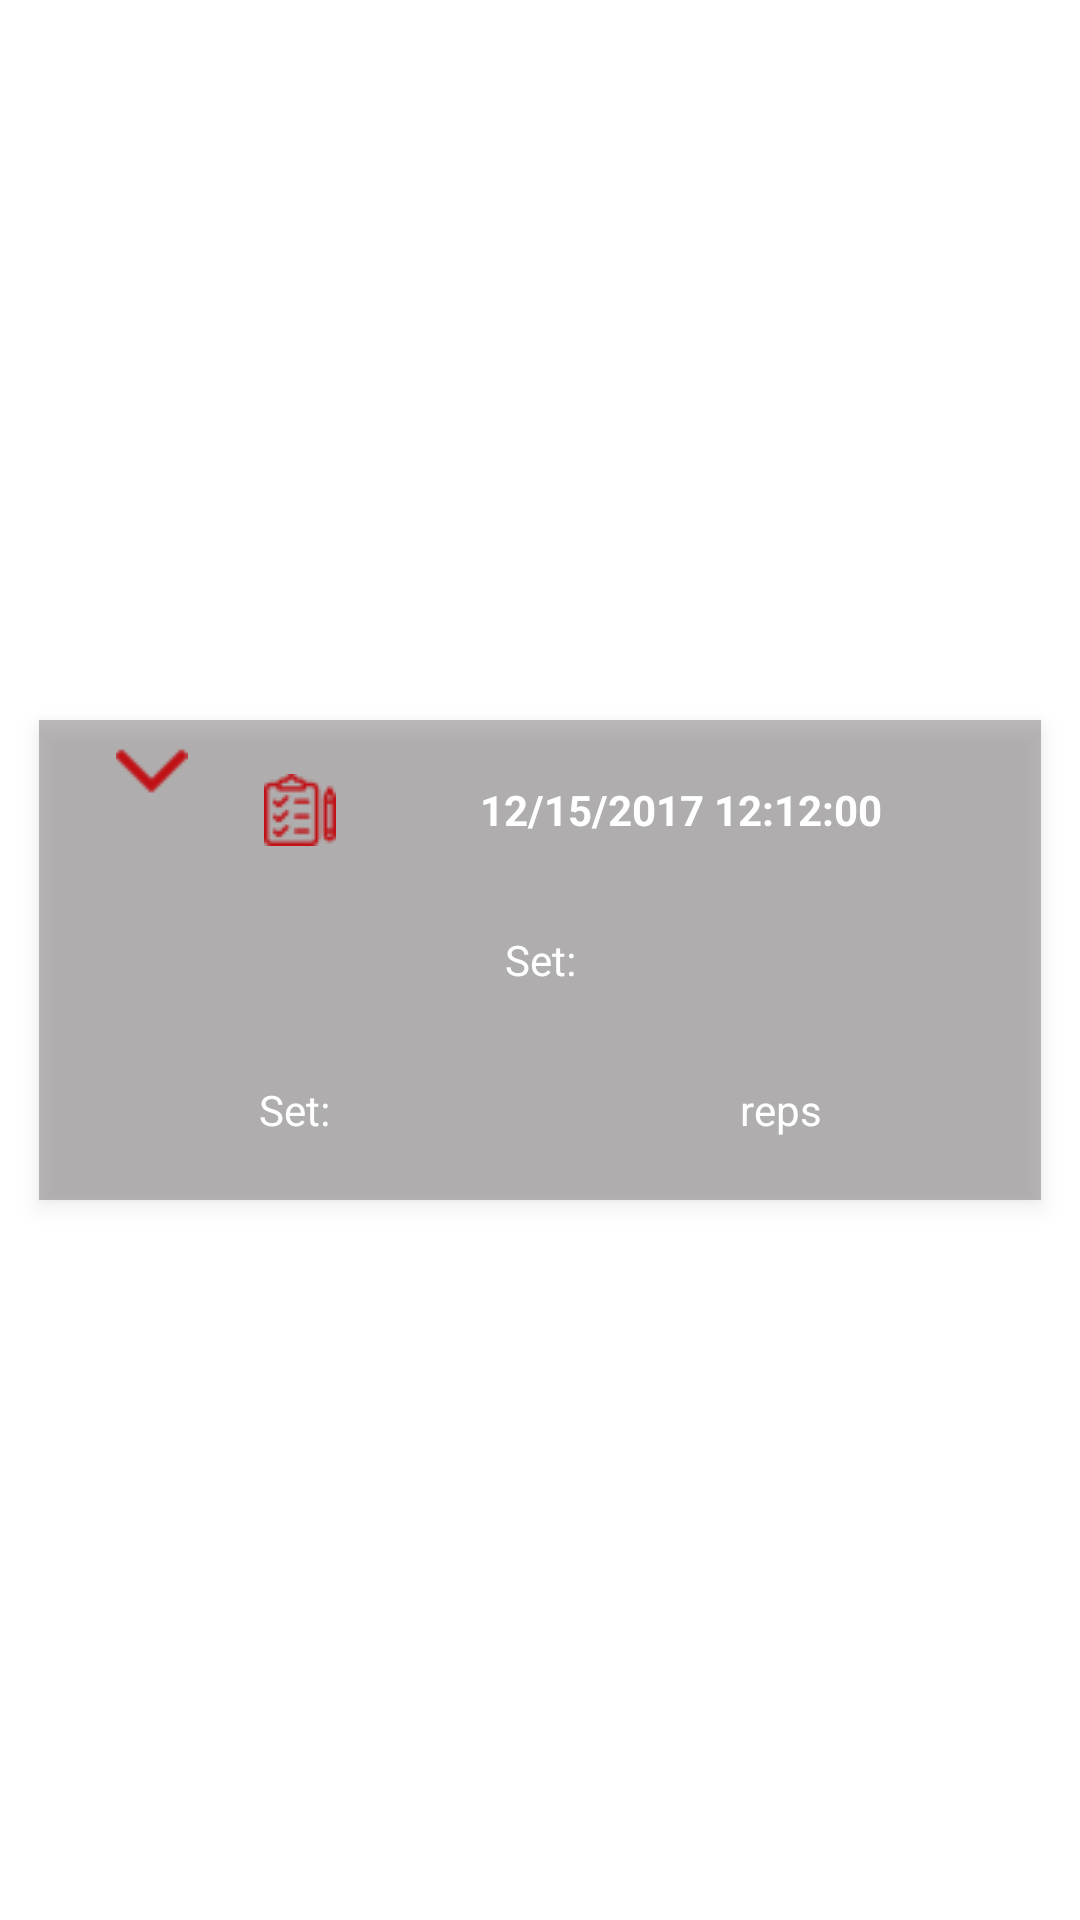

Screen size 1080px x 1920px. Icon name, then its box in pixels as (x1,y1,x2,y2):
down: (116,749,188,793)
